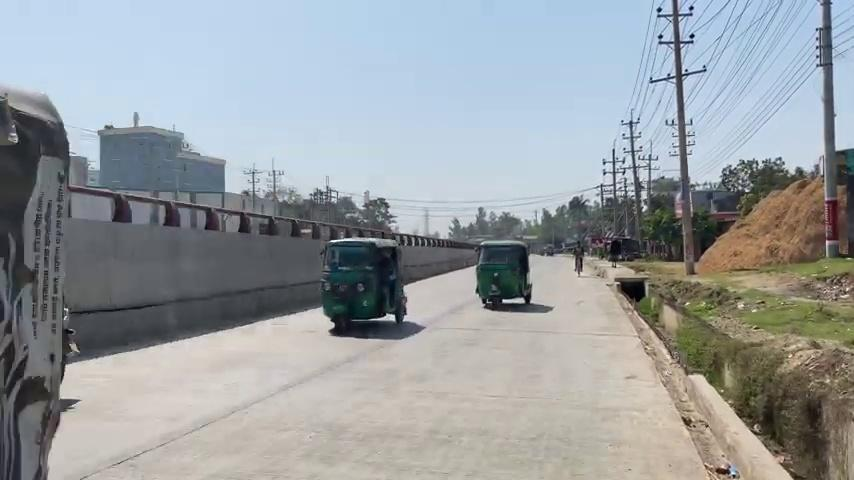Fallen-tree: (89, 180, 314, 333)
Fence: (571, 240, 584, 273), (608, 238, 621, 267)
Garbage: (650, 0, 706, 275), (671, 0, 695, 275), (818, 0, 840, 257)
Garbage-bin: (691, 354, 844, 480), (613, 279, 656, 307)
Rickshaw: (319, 236, 407, 332), (474, 239, 532, 309)
